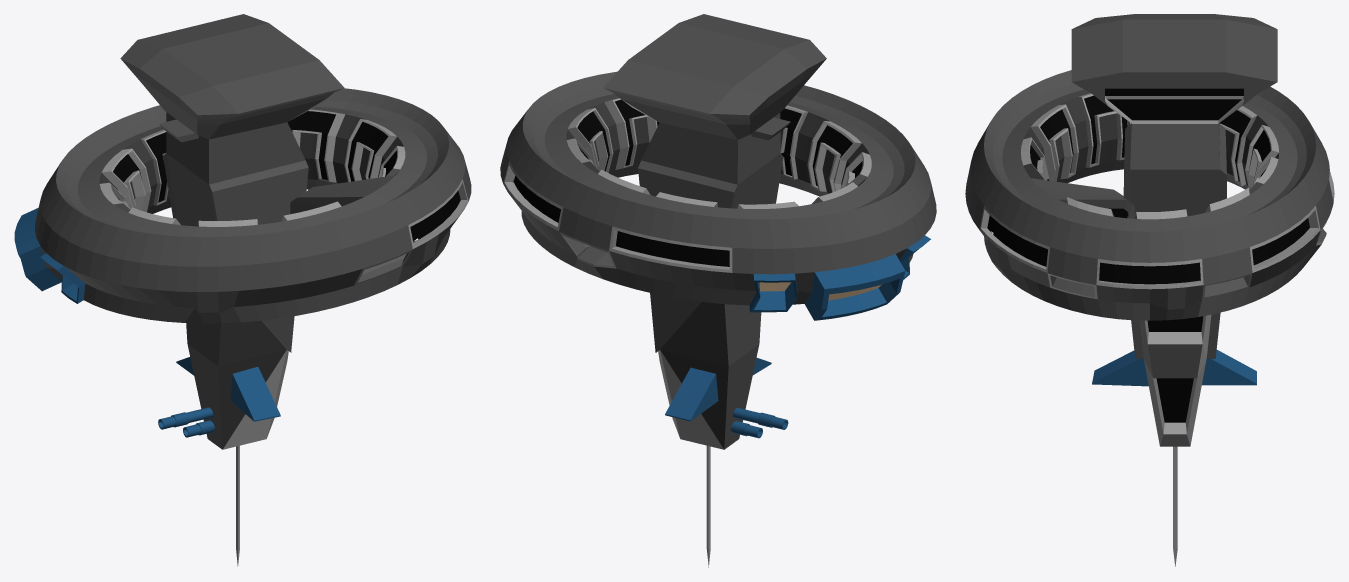
File: Spacestation (1).fbx
The picture shows the model from 3 angles, left to right: view 1: azimuth 30°, elevation 25°; view 2: azimuth 150°, elevation 25°; view 3: azimuth 270°, elevation 25°; orthographic projection. The views are drawn at different scales.
Visible parts, largest first — view 1: Ship disk, Ship body; view 2: Ship disk, Ship body; view 3: Ship disk, Ship body.
Boxes of the visible parts, x1,y1,x2,y2 form: Ship disk: [14, 88, 471, 323]; Ship body: [120, 14, 344, 566]; Ship disk: [500, 71, 936, 320]; Ship body: [603, 14, 826, 567]; Ship disk: [965, 70, 1334, 320]; Ship body: [1071, 14, 1277, 566].
Size of the model in its own units: 326 by 391 by 250.
